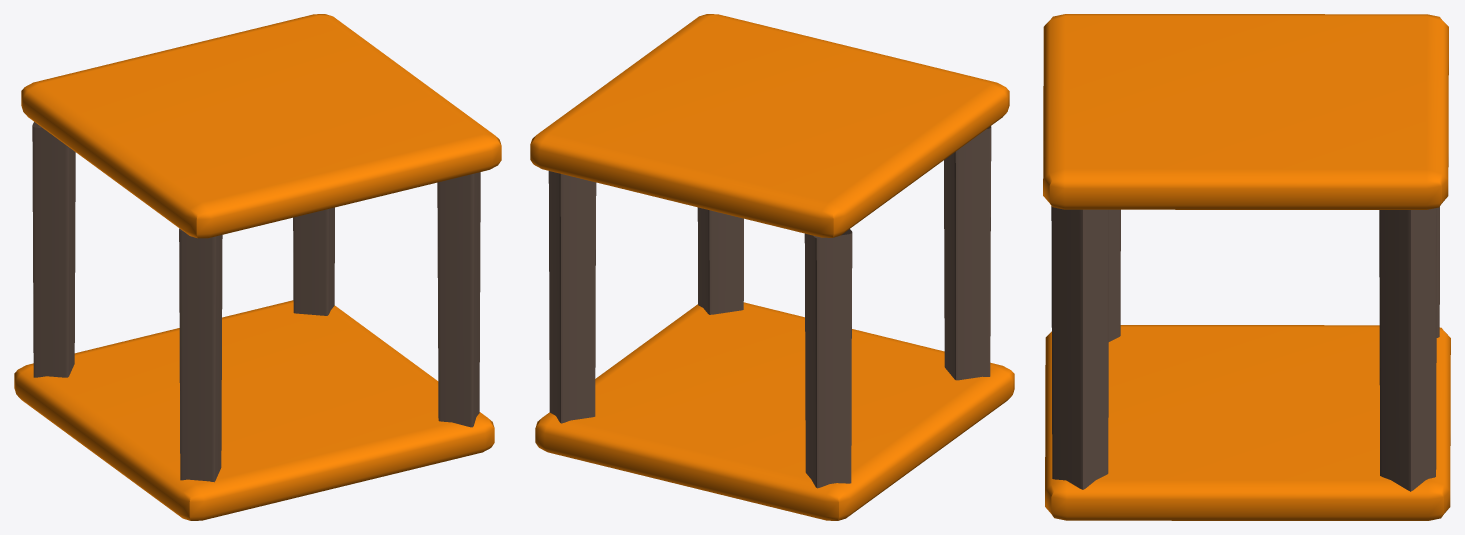
File: SM_Y_05_F_A_Par_02.fbx
3 renders of one model, left to right at view 1: azimuth 30°, elevation 25°; view 2: azimuth 150°, elevation 25°; view 3: azimuth 270°, elevation 25°, orthographic. The views are drawn at different scales.
Parts seen in each view (by area): view 1: SM_Y_05_F_A_Par_02; view 2: SM_Y_05_F_A_Par_02; view 3: SM_Y_05_F_A_Par_02.
Boxes of the visible parts, x1=… form: SM_Y_05_F_A_Par_02: x1=14, y1=14, x2=501, y2=520; SM_Y_05_F_A_Par_02: x1=530, y1=14, x2=1014, y2=520; SM_Y_05_F_A_Par_02: x1=1043, y1=14, x2=1450, y2=520.
Size of the model in its own units: 366 by 343 by 361.
